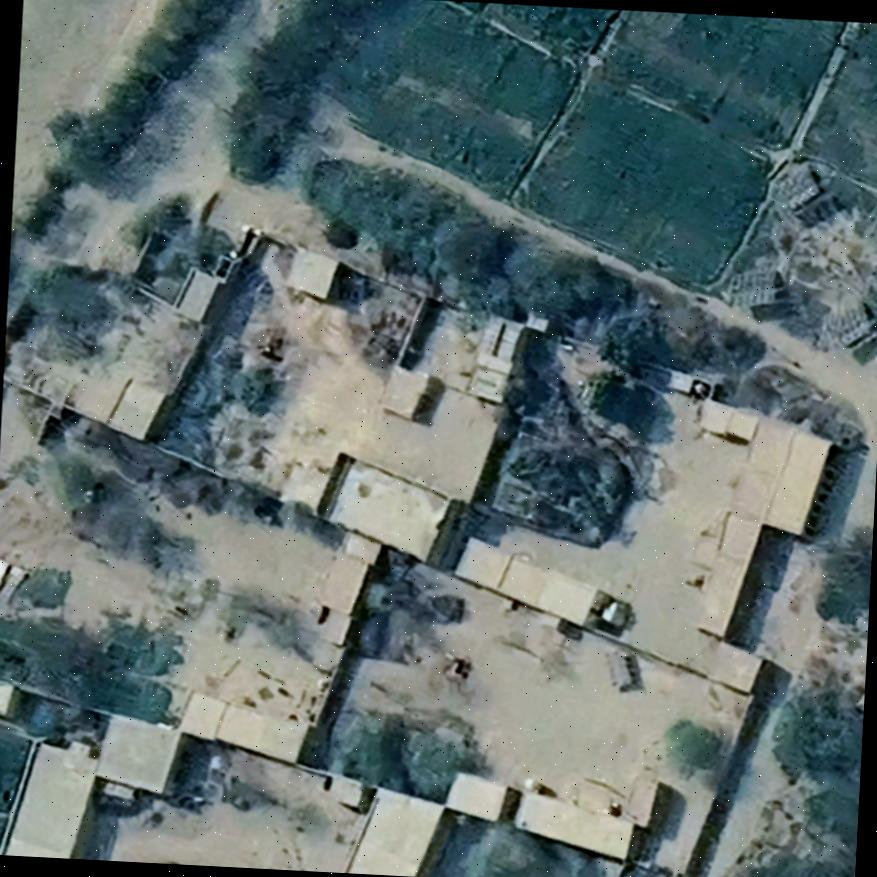Solarpanel: (605, 650, 633, 687)
